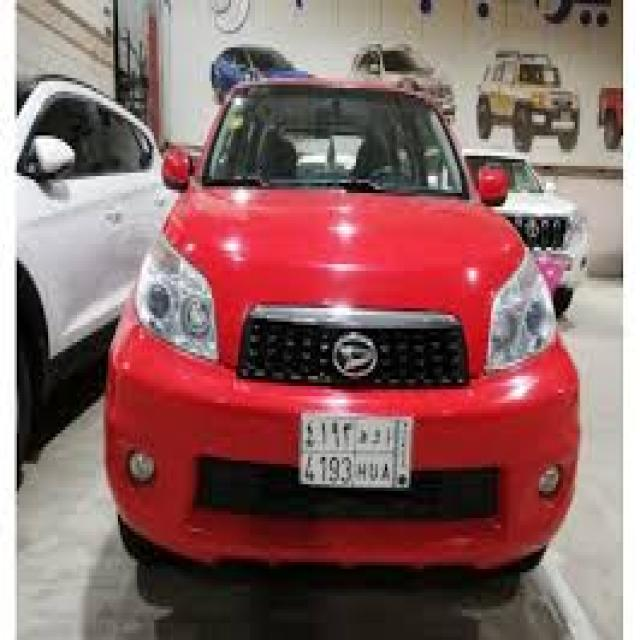license_plate: (298, 410, 414, 494)
